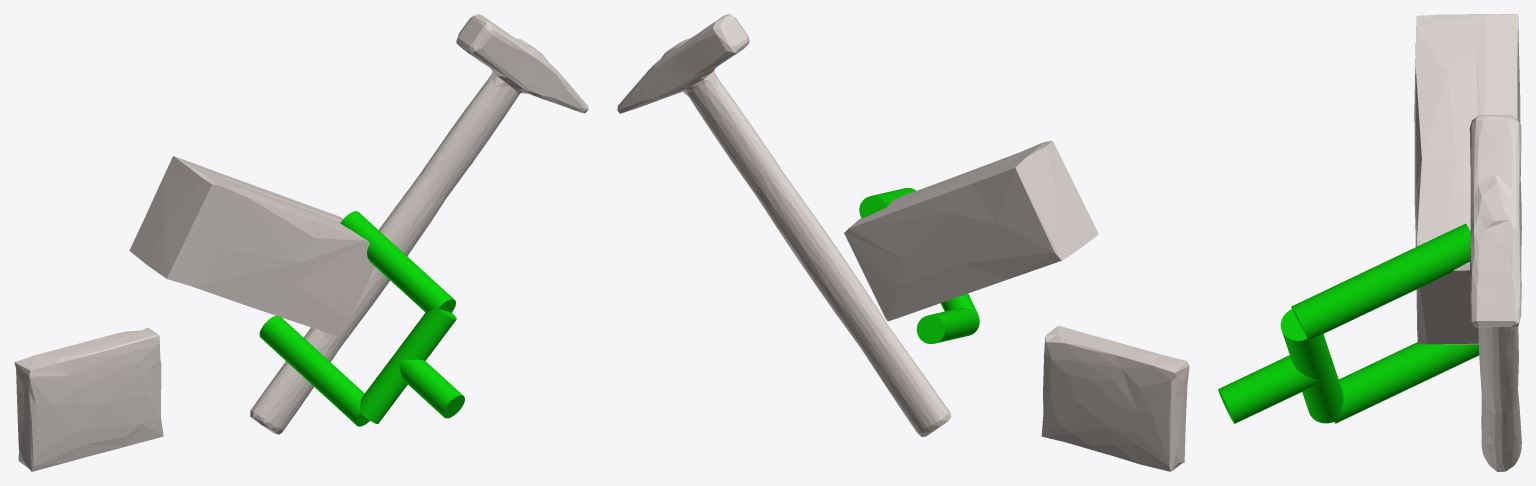
The model's file is round_000_trial_001.obj.
The picture shows the model from 3 angles, left to right: view 1: azimuth 30°, elevation 25°; view 2: azimuth 150°, elevation 25°; view 3: azimuth 270°, elevation 25°; orthographic projection. The views are drawn at different scales.
Parts seen in each view (by area): view 1: geometry_0, geometry_1; view 2: geometry_0, geometry_1; view 3: geometry_0, geometry_1.
Boxes of the visible parts, <box> form: geometry_0: <box>14,14,588,471</box>; geometry_1: <box>259,211,464,426</box>; geometry_0: <box>617,14,1189,471</box>; geometry_1: <box>859,188,979,343</box>; geometry_0: <box>1414,14,1521,471</box>; geometry_1: <box>1218,223,1479,423</box>.
Bounding box in the file's own units: 0.2216 × 0.1393 × 0.0786.
